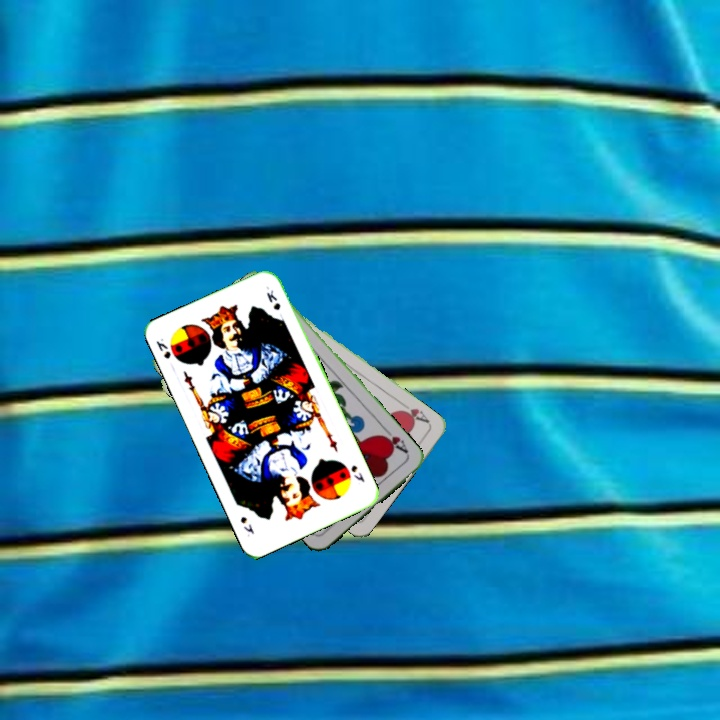HA: (378, 424, 411, 456), (395, 399, 432, 426)
SK: (152, 334, 173, 362), (347, 461, 367, 485)
